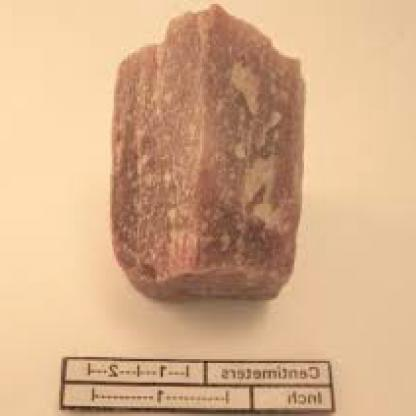Metamorphic_Quartize: (100, 0, 318, 310)
